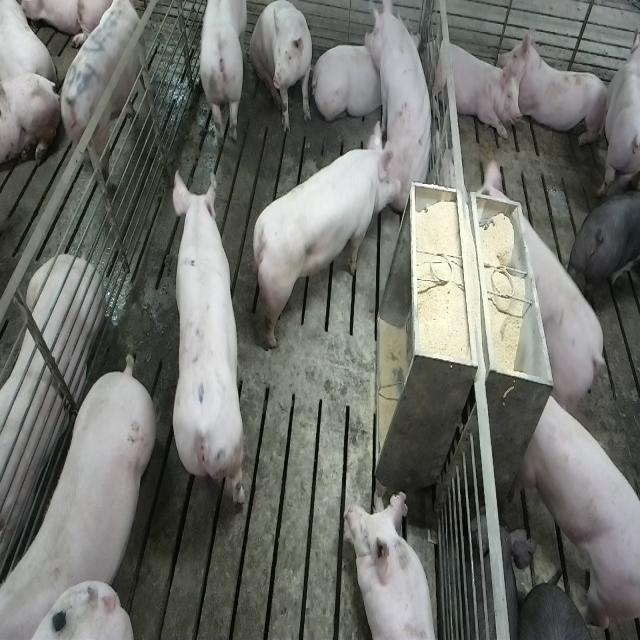Feeding: (251, 133, 400, 348)
Sitting: (368, 4, 438, 225), (250, 1, 314, 136)
Standing: (518, 388, 638, 631), (166, 171, 244, 519), (521, 205, 610, 415), (62, 0, 150, 204), (570, 188, 640, 305), (197, 1, 248, 153)
Sternal_lying: (0, 249, 101, 578), (502, 19, 612, 149), (346, 489, 440, 640), (426, 29, 524, 141), (315, 41, 385, 126)
